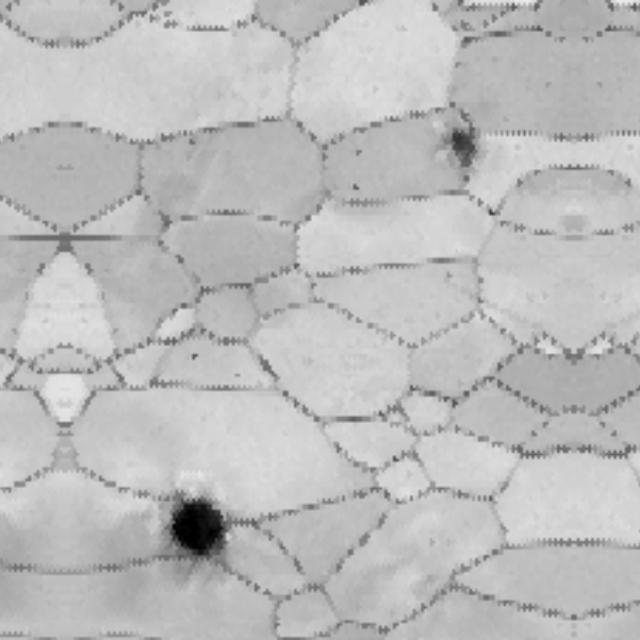good_void: (158, 482, 237, 578), (443, 125, 481, 189), (189, 351, 202, 365), (187, 138, 200, 149), (350, 183, 362, 194)
